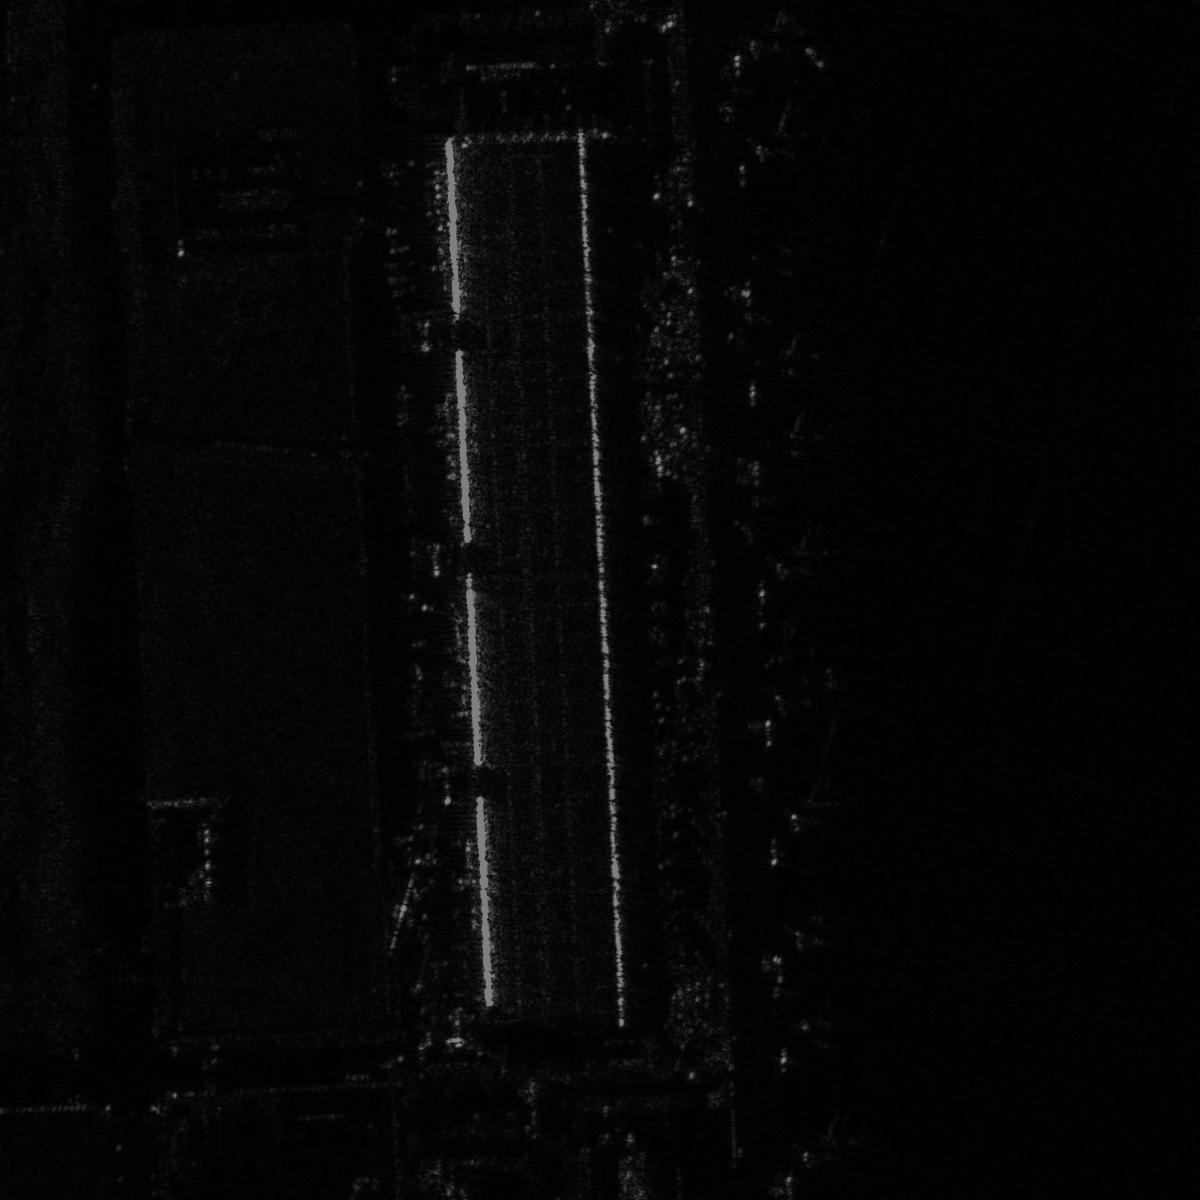A220: (764, 525, 844, 584)
A320/321: (735, 101, 838, 179), (784, 1110, 873, 1181), (749, 332, 833, 385), (773, 411, 831, 465)
other: (770, 893, 862, 958), (782, 996, 869, 1060)
